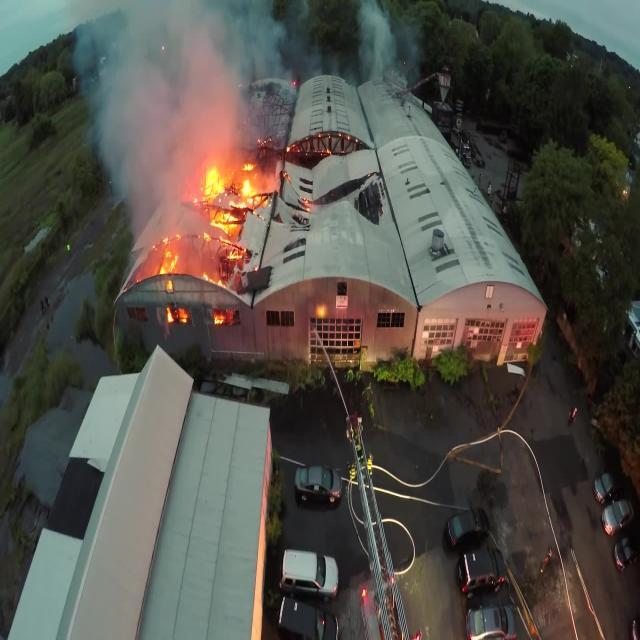Fire: (191, 158, 266, 249), (152, 232, 194, 332), (205, 234, 240, 332)
Smoke: (96, 2, 228, 200)
